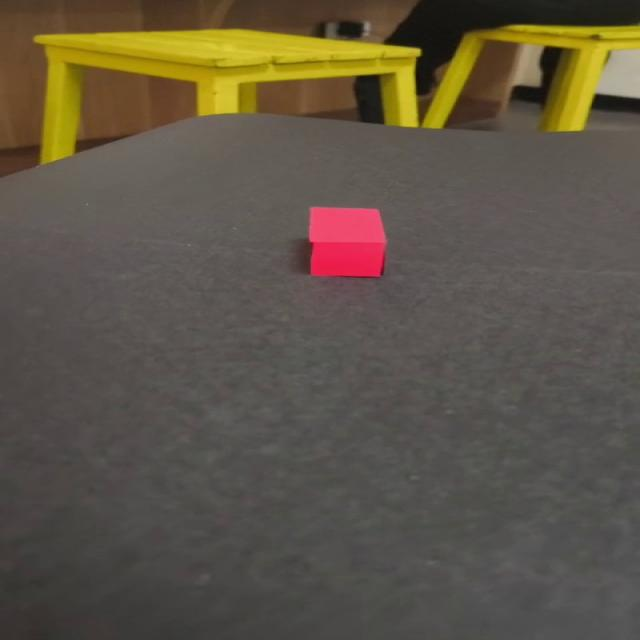red block: (306, 206, 386, 278)
